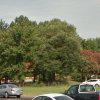Tree: (12, 5, 84, 73)
